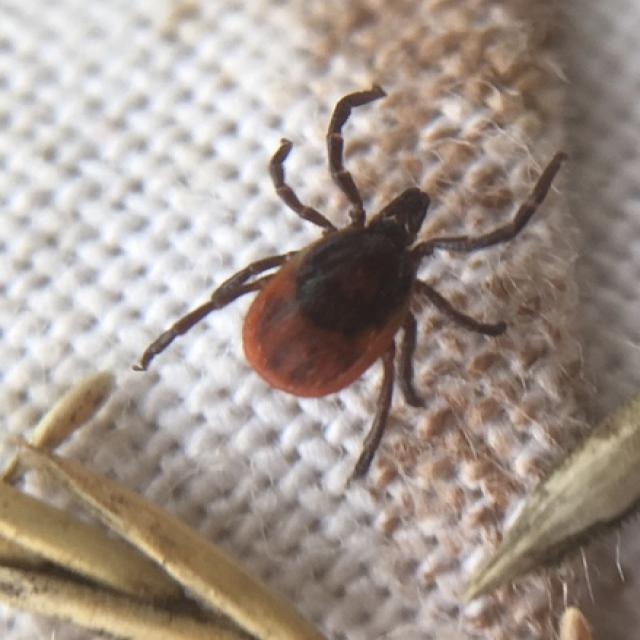Ixodes Ricinus-F: (133, 87, 569, 481)
